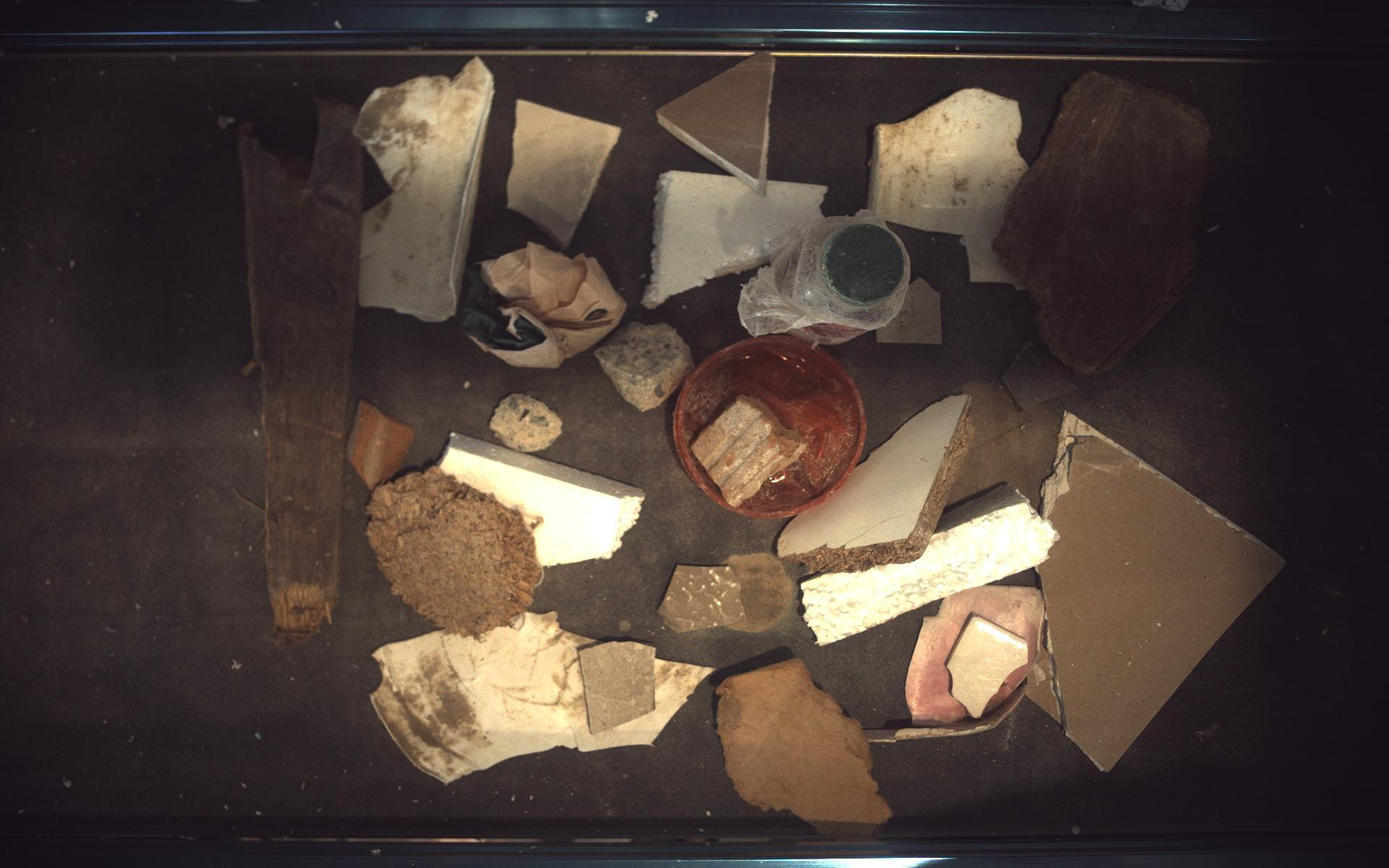brick: (692, 396, 808, 507), (346, 399, 415, 490)
concrete: (595, 322, 694, 412), (490, 393, 562, 453)
foam: (803, 484, 1061, 647), (439, 432, 645, 566), (642, 169, 829, 307)
general_w: (742, 211, 913, 343), (463, 242, 626, 367)
gypsum_board: (1029, 412, 1288, 773), (657, 50, 776, 195), (507, 98, 621, 246)
plastic: (370, 613, 712, 784), (354, 56, 493, 321), (674, 334, 868, 519), (870, 88, 1029, 287), (867, 587, 1047, 744)
tile: (948, 615, 1031, 720), (659, 566, 746, 634), (1003, 341, 1079, 410), (878, 277, 943, 344)
wood: (238, 100, 362, 644), (997, 71, 1212, 375), (779, 396, 976, 574), (717, 659, 893, 838), (366, 467, 543, 638)
